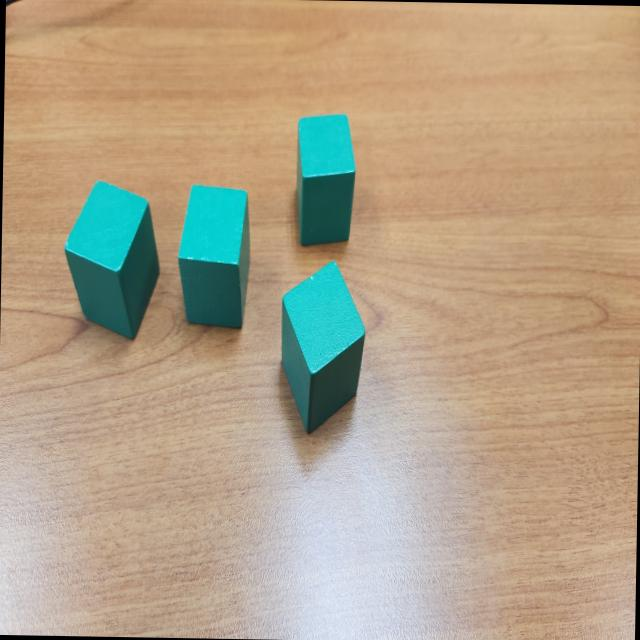green: (63, 178, 162, 340), (276, 260, 367, 435), (174, 183, 252, 328), (294, 111, 356, 248)
